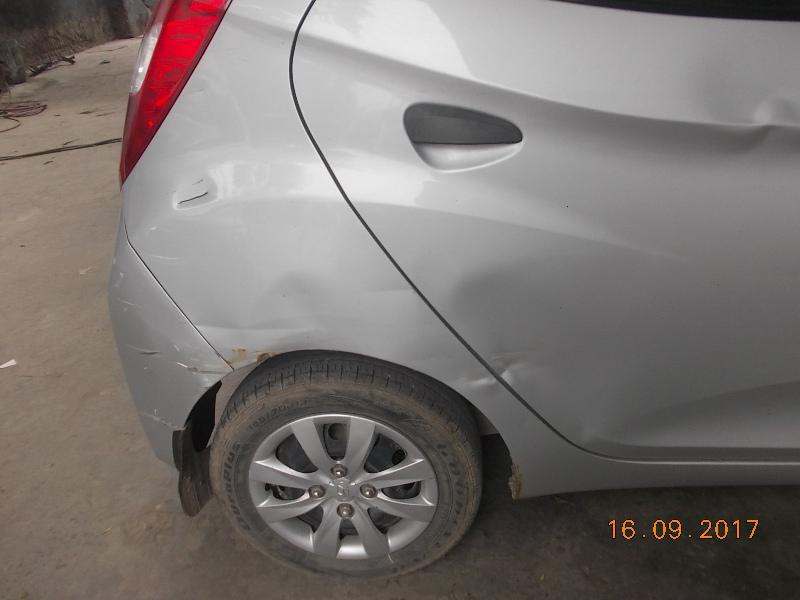doorouter-dent: (375, 5, 799, 442)
quaterpanel-dent: (169, 31, 373, 451)
rear-bumper-dent: (85, 206, 236, 537)
